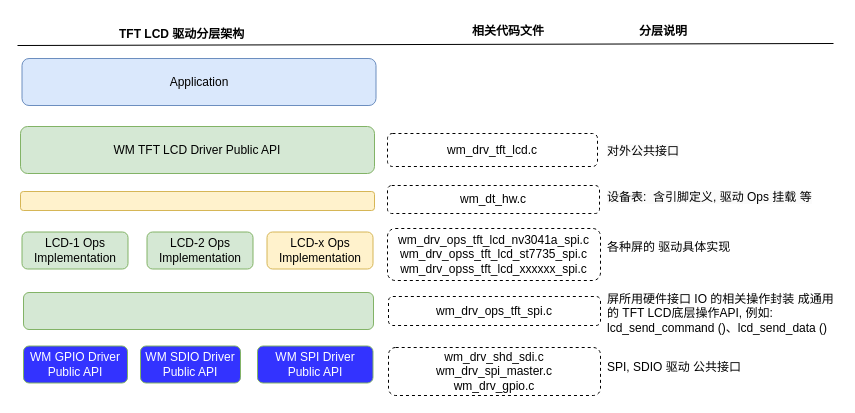
This 855x413 diagram has some shape labels left out. Here are the shapes that lost their labels. From the top down, the box of each, then its label:
(20, 190, 374, 210): LCD Ops Register
(22, 292, 374, 330): TFT LCD I/F Driver (SPI)
